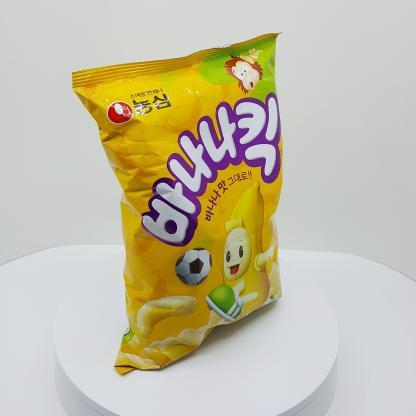Plastic Packaging: (67, 26, 300, 382)
